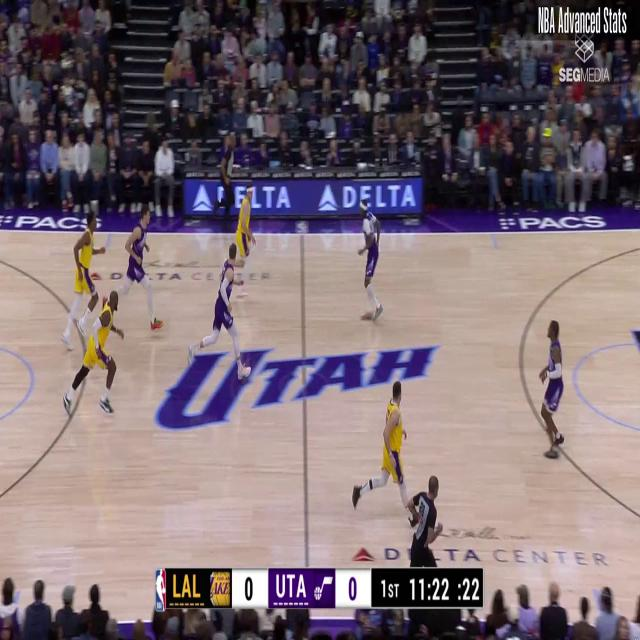judge: (406, 474, 442, 590), (214, 131, 236, 230)
player: (187, 243, 251, 384), (350, 381, 410, 516), (63, 292, 125, 417), (106, 206, 164, 335), (61, 214, 107, 350), (538, 320, 564, 456), (358, 201, 383, 323), (231, 184, 256, 296)
